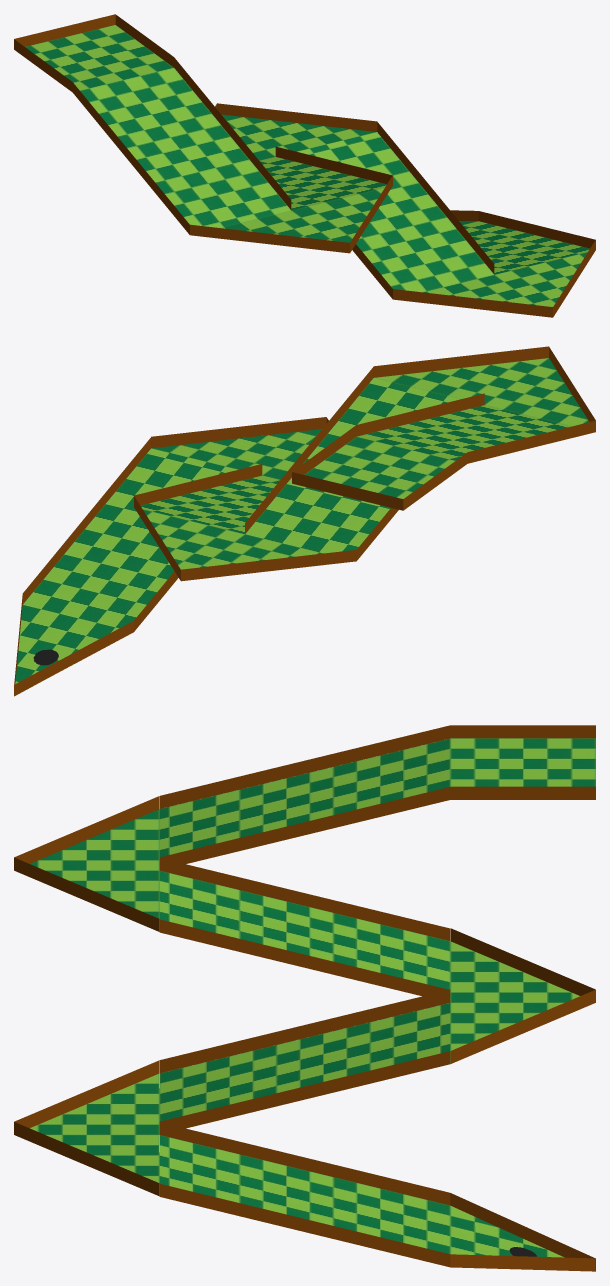
File: testmap4.obj
3 renders of one model, top to bottom at view 1: azimuth 30°, elevation 25°; view 2: azimuth 150°, elevation 25°; view 3: azimuth 270°, elevation 25°, orthographic. The views are drawn at different scales.
Visible parts, largest first — view 1: Plane.001, Plane.008_Plane.011, Plane, Plane.004_Plane.005, Plane.010_Plane.014, Plane.006_Plane.009, Plane.003_Plane.004, Plane.007_Plane.013, Plane.005_Plane.012, Plane.005_Plane.014_Plane.005_Plane.015, Plane.005_Plane.016_Plane.005_Plane.017, Plane.005_Plane.007 (+12 smaller); view 2: Plane.010_Plane.014, Plane.004_Plane.005, Plane.001, Plane, Plane.008_Plane.011, Plane.012_Plane.016, Plane.003_Plane.004, Plane.002, Plane.007_Plane.013, Plane.005_Plane.007, Plane.006_Plane.009, Plane.005_Plane.013_Plane.005_Plane.014 (+15 smaller); view 3: Plane.004_Plane.005, Plane.010_Plane.014, Plane.008_Plane.011, Plane.001, Plane.005_Plane.007, Plane, Plane.002, Plane.009_Plane.012, Plane.005_Plane.004, Plane.005_Plane.008, Plane.005_Plane.005, Plane.005_Plane.018_Plane.005_Plane.020 (+17 smaller).
Boxes of the visible parts, x1,y1,x2,y2 form: Plane.001: (80, 68, 290, 227); Plane.008_Plane.011: (297, 132, 494, 292); Plane: (25, 25, 173, 90); Plane.004_Plane.005: (259, 157, 386, 210); Plane.010_Plane.014: (462, 221, 589, 274); Plane.006_Plane.009: (221, 114, 376, 156); Plane.003_Plane.004: (291, 187, 384, 242); Plane.007_Plane.013: (495, 252, 587, 306); Plane.005_Plane.012: (190, 224, 349, 253); Plane.005_Plane.014_Plane.005_Plane.015: (393, 289, 552, 317); Plane.005_Plane.016_Plane.005_Plane.017: (217, 103, 377, 131); Plane.005_Plane.007: (227, 121, 392, 184); Plane.010_Plane.014: (23, 448, 237, 628); Plane.004_Plane.005: (245, 378, 460, 553); Plane.001: (357, 405, 571, 460); Plane: (304, 436, 454, 498); Plane.008_Plane.011: (140, 475, 279, 533); Plane.012_Plane.016: (15, 605, 118, 694); Plane.003_Plane.004: (374, 358, 548, 404); Plane.002: (485, 358, 589, 426); Plane.007_Plane.013: (152, 429, 321, 475); Plane.005_Plane.007: (200, 367, 373, 567); Plane.006_Plane.009: (143, 509, 244, 569); Plane.005_Plane.013_Plane.005_Plane.014: (373, 346, 548, 377); Plane.004_Plane.005: (159, 871, 450, 989); Plane.010_Plane.014: (159, 1135, 450, 1253); Plane.008_Plane.011: (159, 1003, 450, 1121); Plane.001: (159, 738, 450, 857); Plane.005_Plane.007: (159, 919, 579, 1002); Plane: (450, 738, 595, 786); Plane.002: (30, 809, 159, 870); Plane.009_Plane.012: (30, 1074, 159, 1134); Plane.005_Plane.004: (159, 725, 450, 808); Plane.005_Plane.008: (159, 1051, 450, 1134); Plane.005_Plane.005: (159, 787, 450, 870); Plane.005_Plane.018_Plane.005_Plane.020: (159, 1184, 450, 1267).
Size of the model in its own units: 20 by 12.56 by 20.
Materials: 3 (1 with a texture image).
